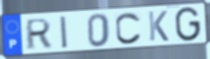0: (86, 12, 111, 48)
C: (114, 11, 143, 46)
G: (174, 6, 202, 43)
I: (59, 15, 70, 50)
K: (147, 10, 170, 43)
R: (25, 17, 53, 51)
